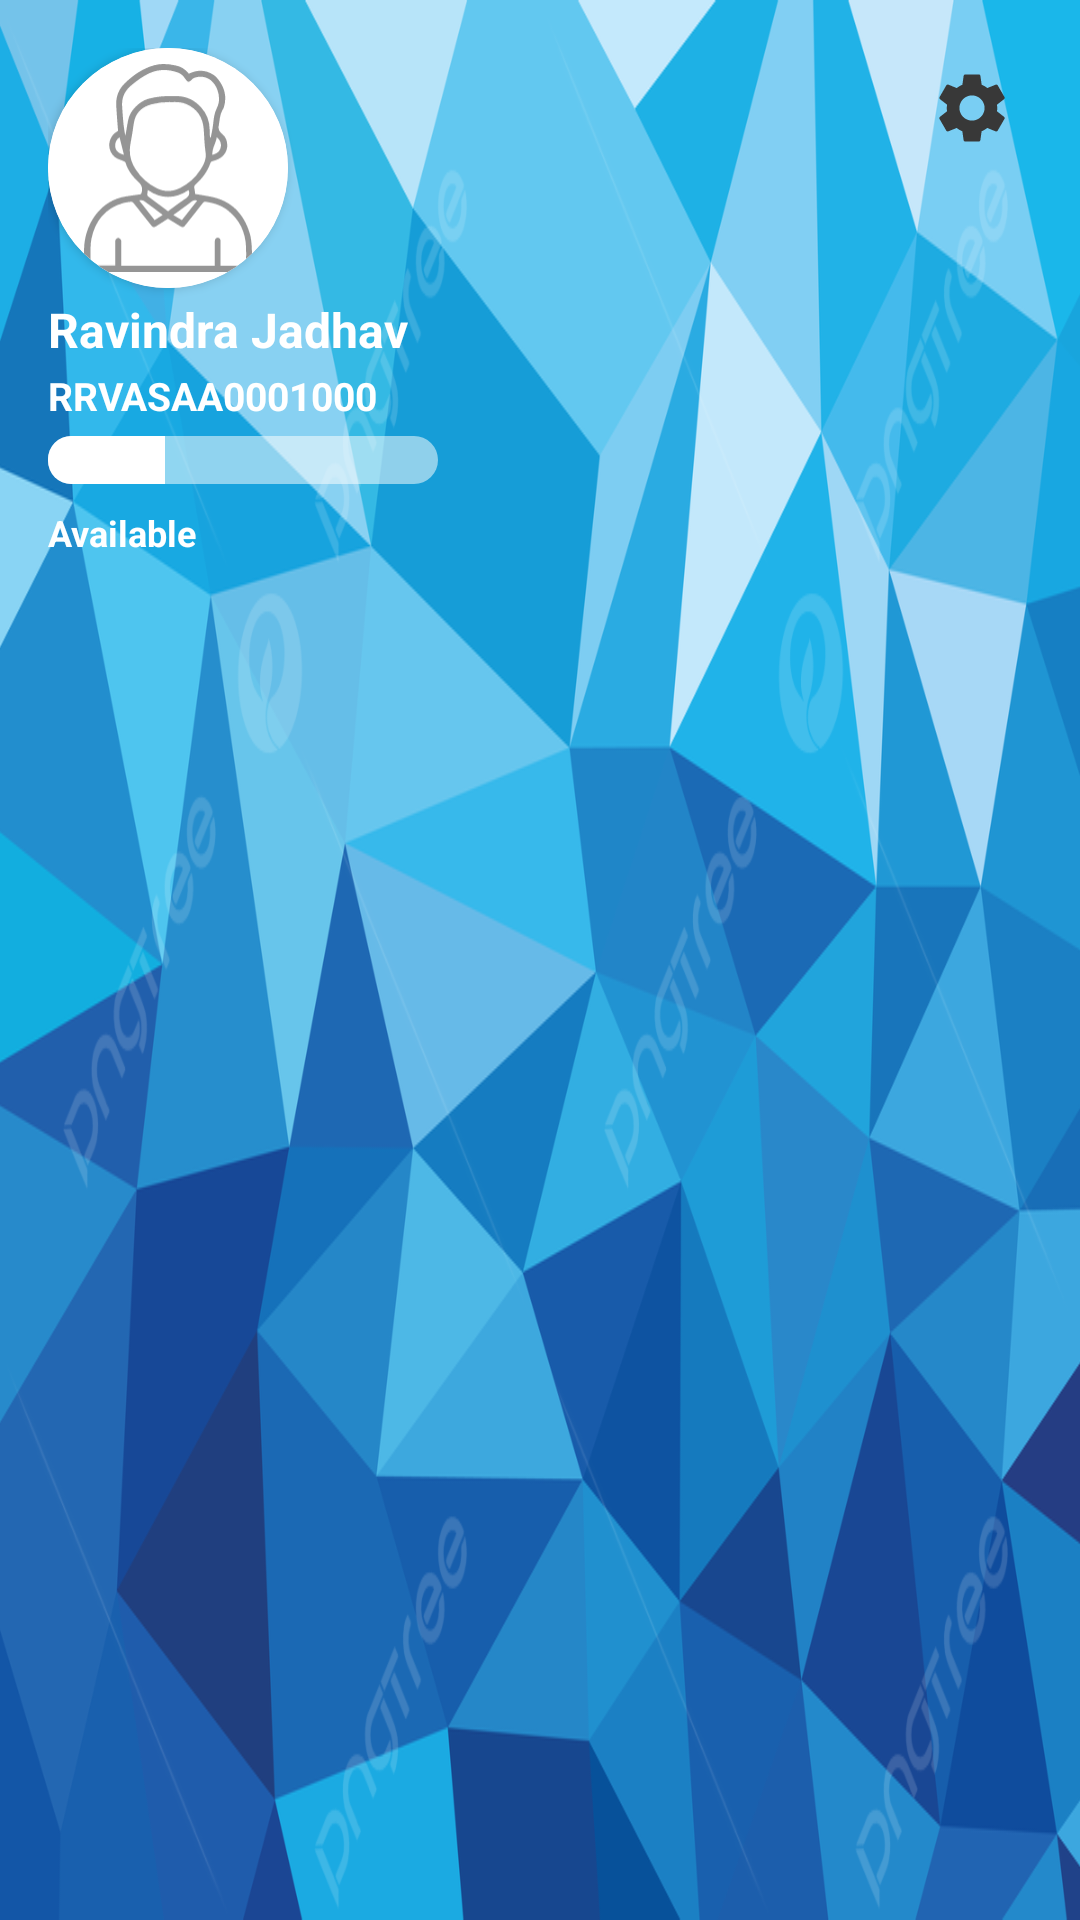

Named icons in this screenshot (1080 x 1920) and their centers, (x=x, y=y):
user: (x=168, y=168)
